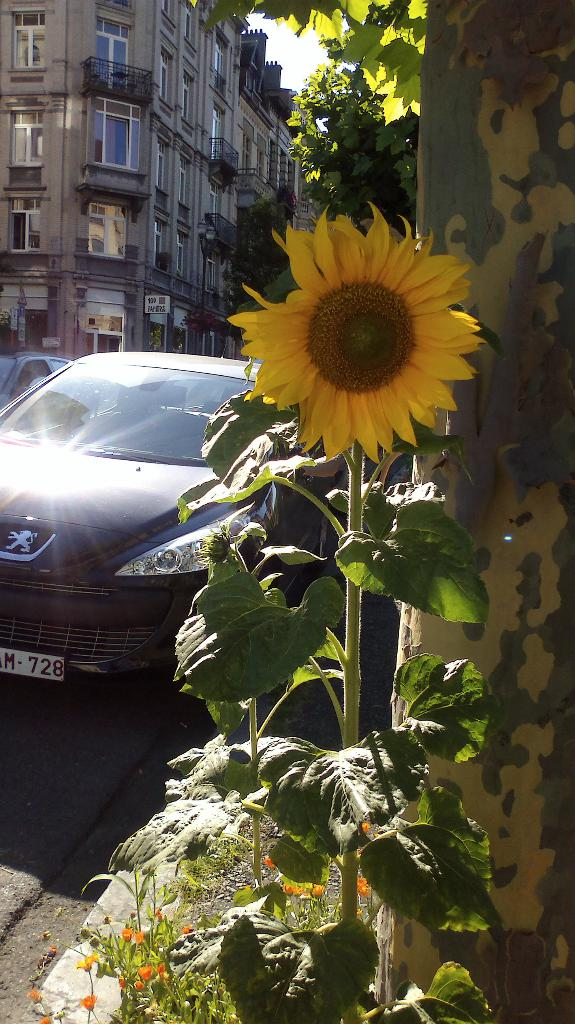Car: (0, 348, 355, 705)
